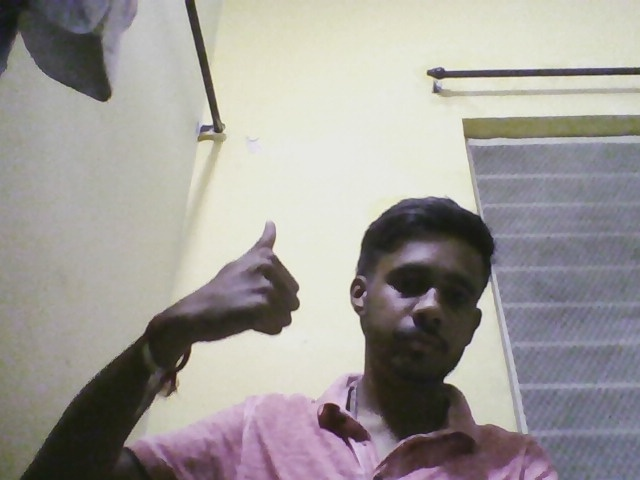yes: (158, 215, 302, 354)
